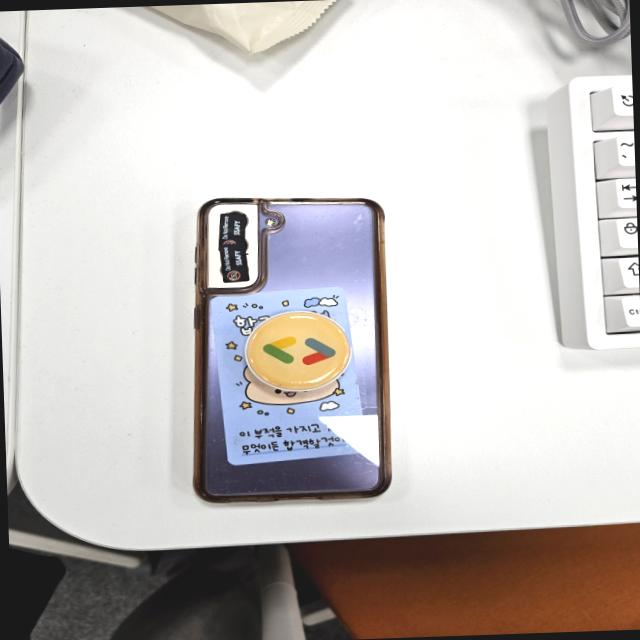phone: (180, 192, 398, 503)
sticker: (218, 246, 247, 281), (217, 213, 246, 246)
